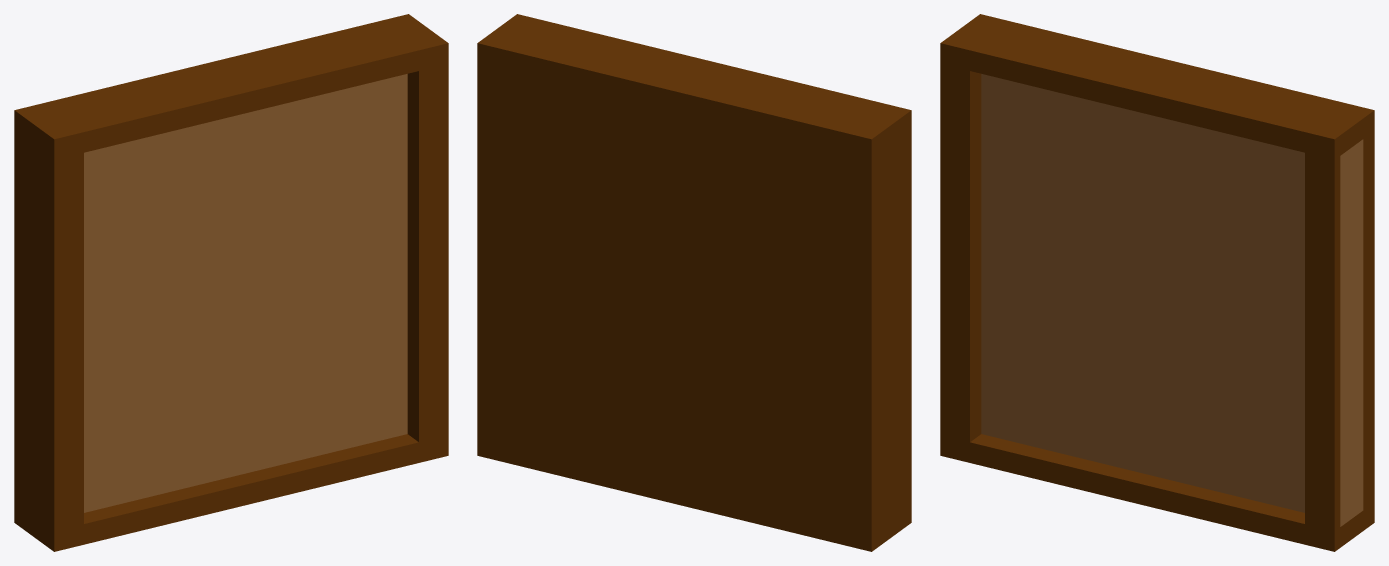
Rendered from saloon-15.obj.
3 views of the same model, side by side, from view 1: azimuth 30°, elevation 25°; view 2: azimuth 150°, elevation 25°; view 3: azimuth 330°, elevation 25° (orthographic).
Size of the model in its own units: 4 by 4 by 0.7.
1 material, 1 textured.
